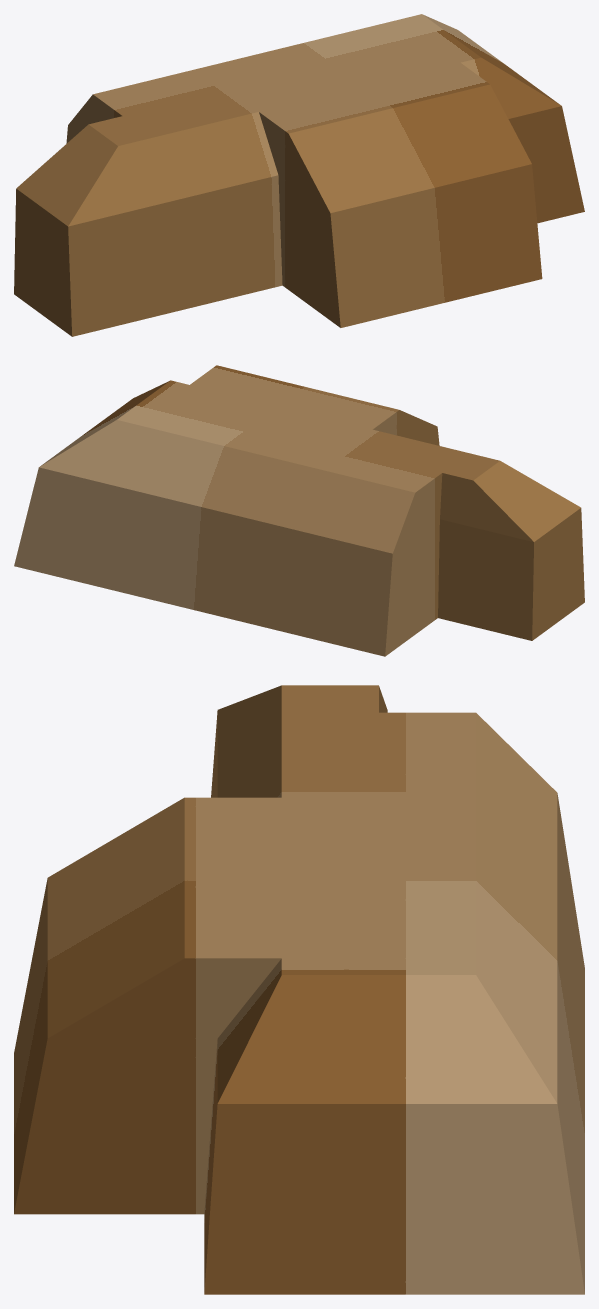
File: small_rock_203x06.gltf
The picture shows the model from 3 angles, top to bottom: view 1: azimuth 30°, elevation 25°; view 2: azimuth 150°, elevation 25°; view 3: azimuth 270°, elevation 25°; orthographic projection. The views are drawn at different scales.
Visible parts, largest first — view 1: small_rock_203x06; view 2: small_rock_203x06; view 3: small_rock_203x06.
Part boxes in pixels (x1,y1,x2,y2): small_rock_203x06: [14, 14, 584, 336]; small_rock_203x06: [14, 365, 584, 656]; small_rock_203x06: [14, 685, 584, 1294].
Size of the model in its own units: 0.5344 by 0.1558 by 0.3152.
Materials: 1 (1 with a texture image).
